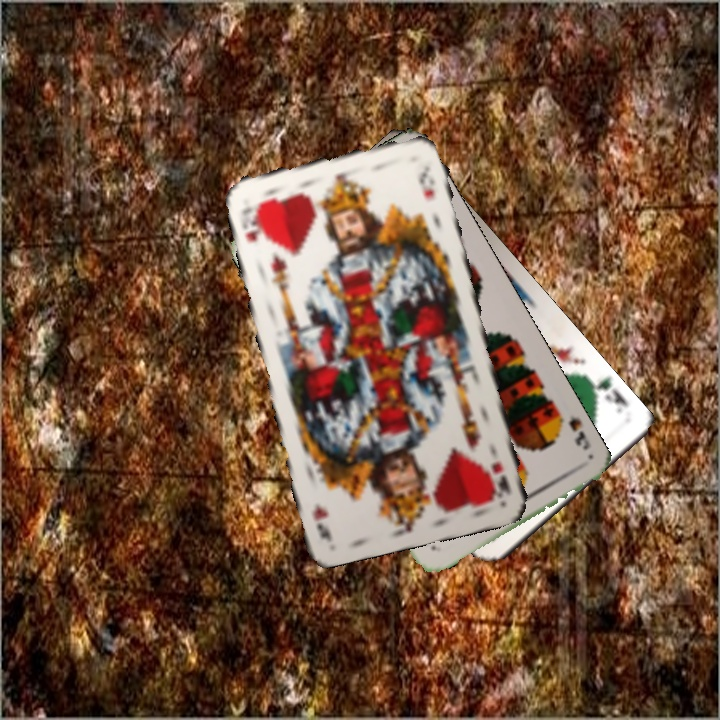GK: (585, 374, 632, 416)
HK: (237, 201, 269, 246), (486, 458, 513, 500)
S9: (549, 406, 593, 453)
